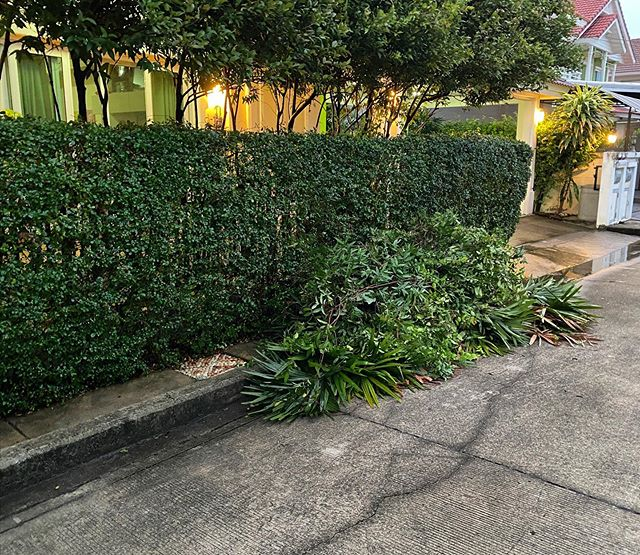building: (508, 1, 640, 234)
vegetation: (1, 123, 537, 400), (1, 1, 532, 129)
